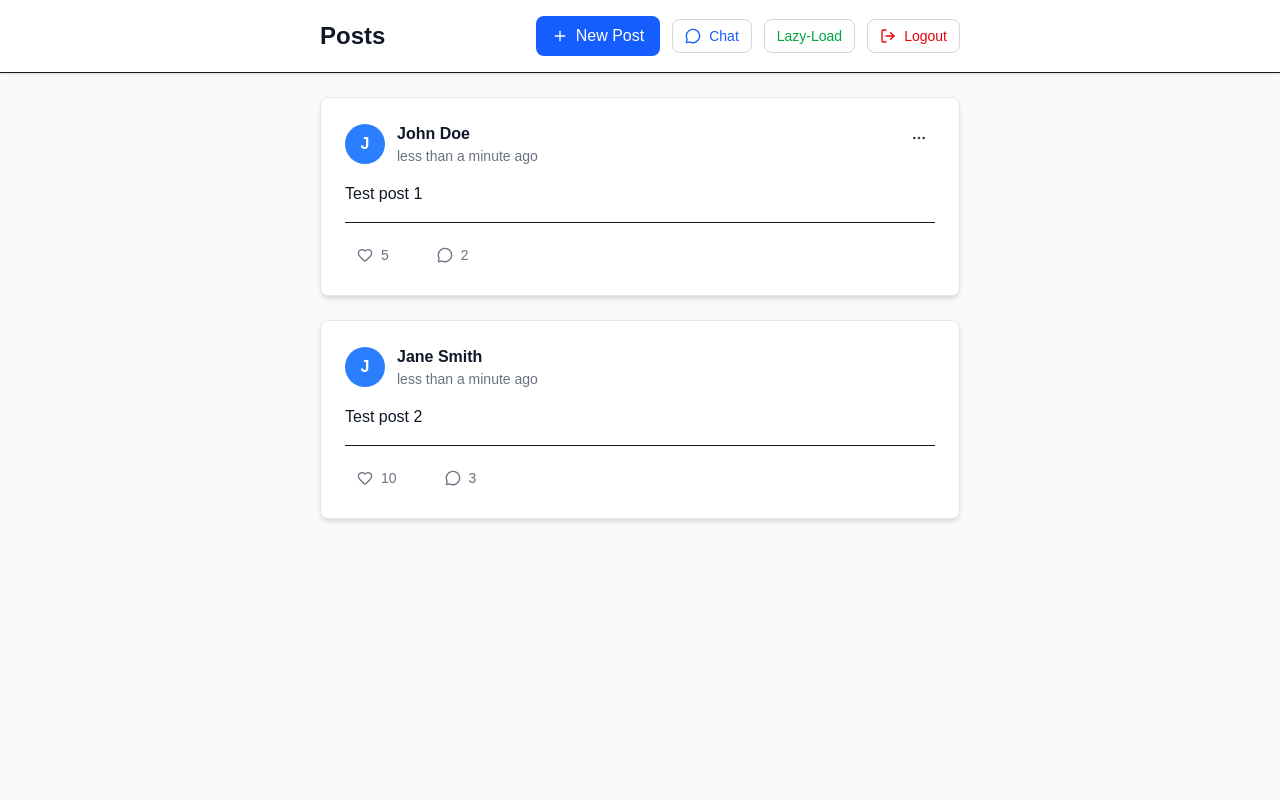
Test: PostsPage › opens post form when "New Post" button is clicked
Step 1. Click the button "New Post" → (598, 36), box [536, 16, 660, 56]
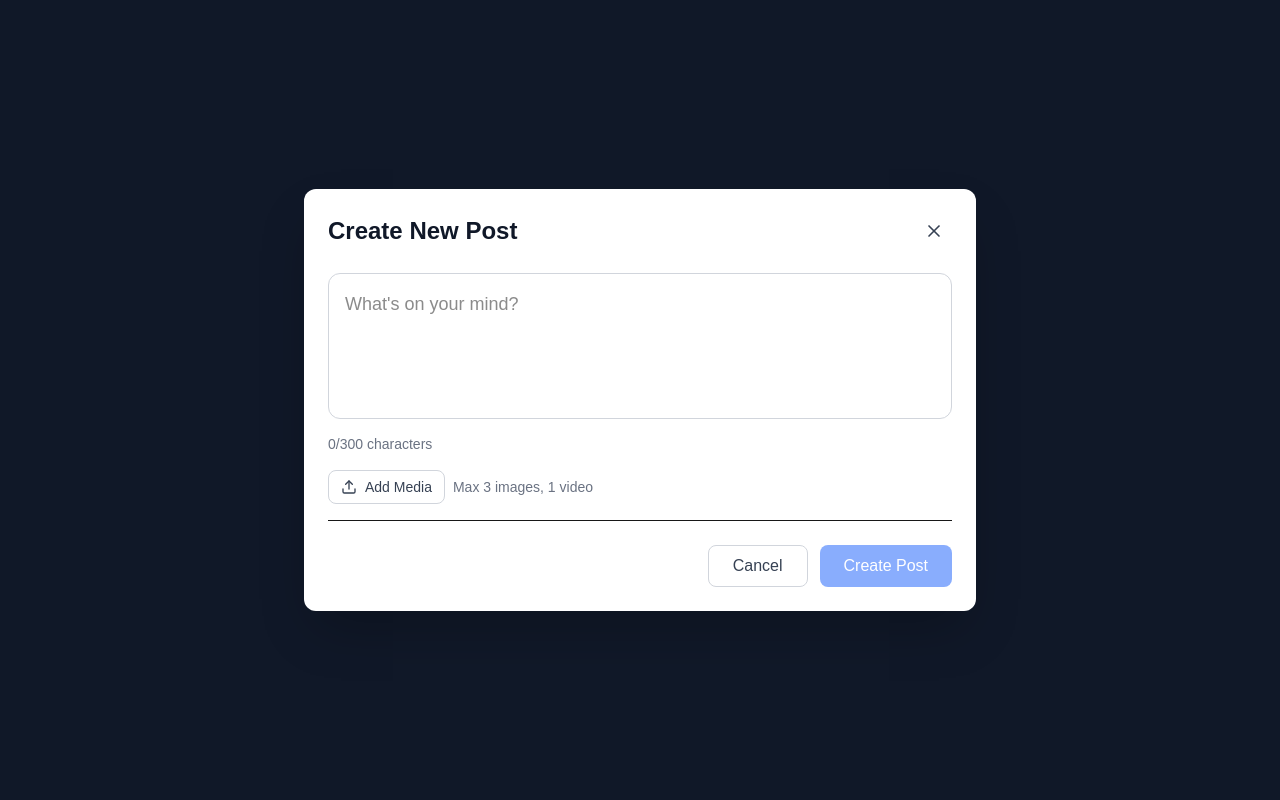
Check: the heading "Create New Post" is shown, box [328, 215, 517, 247]
